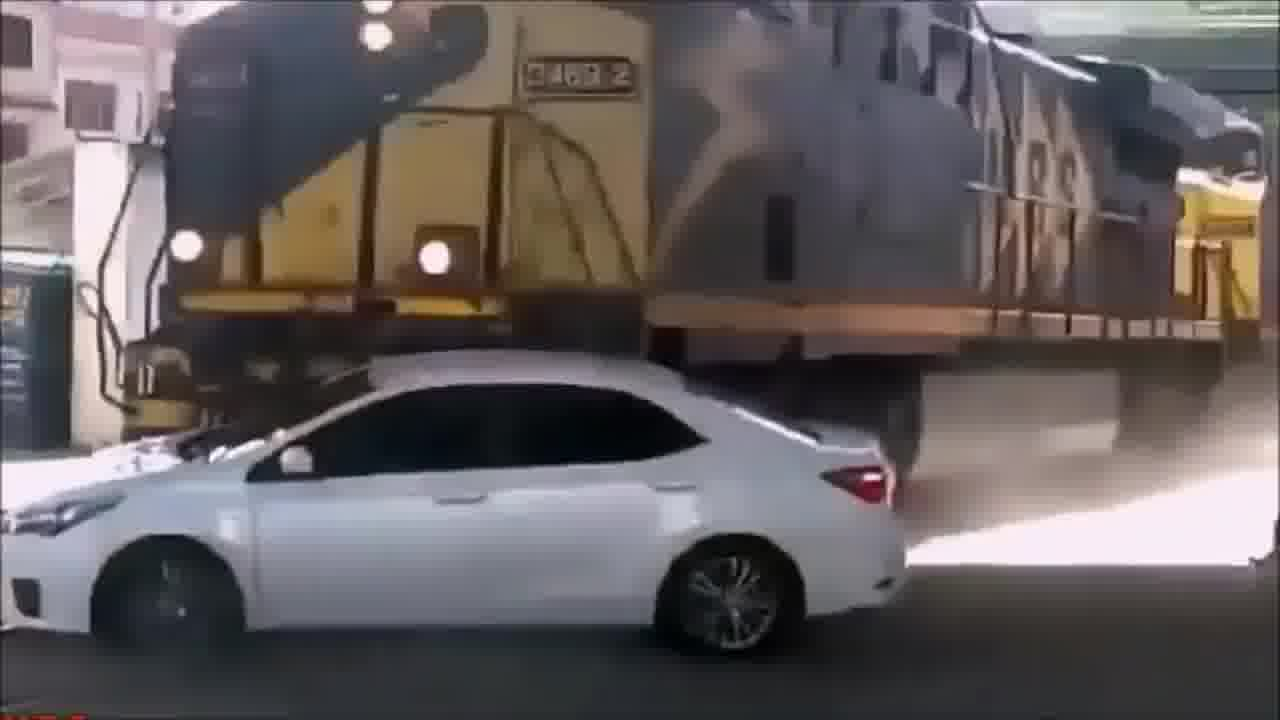crossing railway track: (13, 272, 908, 668)
